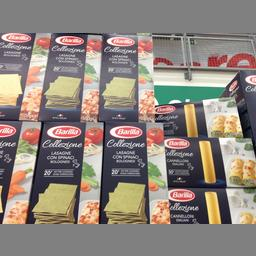pasta: (25, 120, 103, 224), (97, 120, 169, 223), (39, 33, 102, 120), (100, 32, 154, 120), (162, 136, 254, 187), (0, 32, 50, 120), (156, 96, 242, 136)
